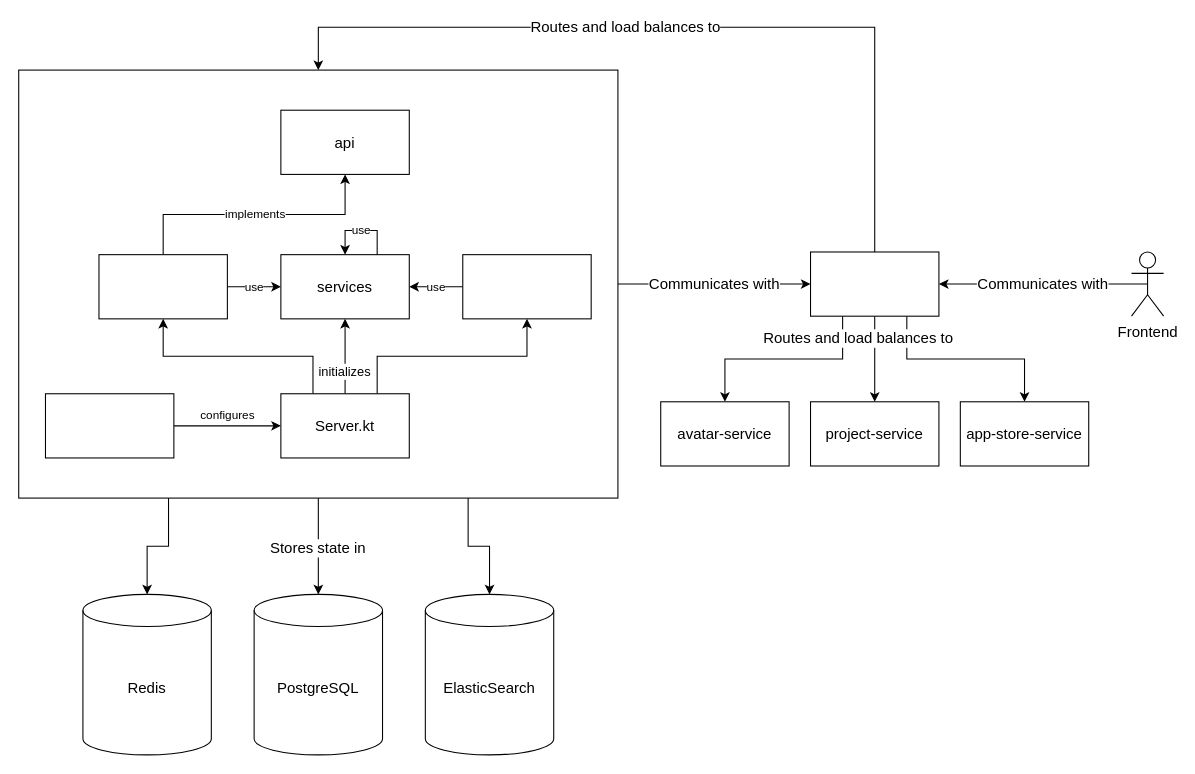
Some shapes in this 1195 by 774 pixel diagram are drawn without their labels. Each missing label, with the box of its shape:
example-service: (18, 69, 618, 498)
Main.kt: (44, 393, 174, 458)
processors: (462, 254, 591, 319)
rpc: (98, 254, 227, 319)
UCloud Gateway: (809, 251, 939, 316)
